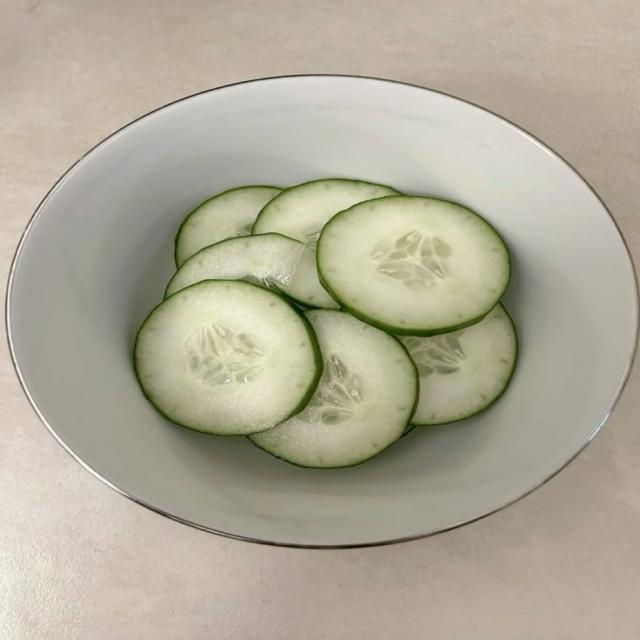cucumber sliced: (134, 281, 322, 435), (318, 196, 510, 335), (251, 310, 418, 467), (253, 179, 398, 297), (401, 304, 517, 424), (166, 234, 333, 305), (175, 186, 281, 267)
